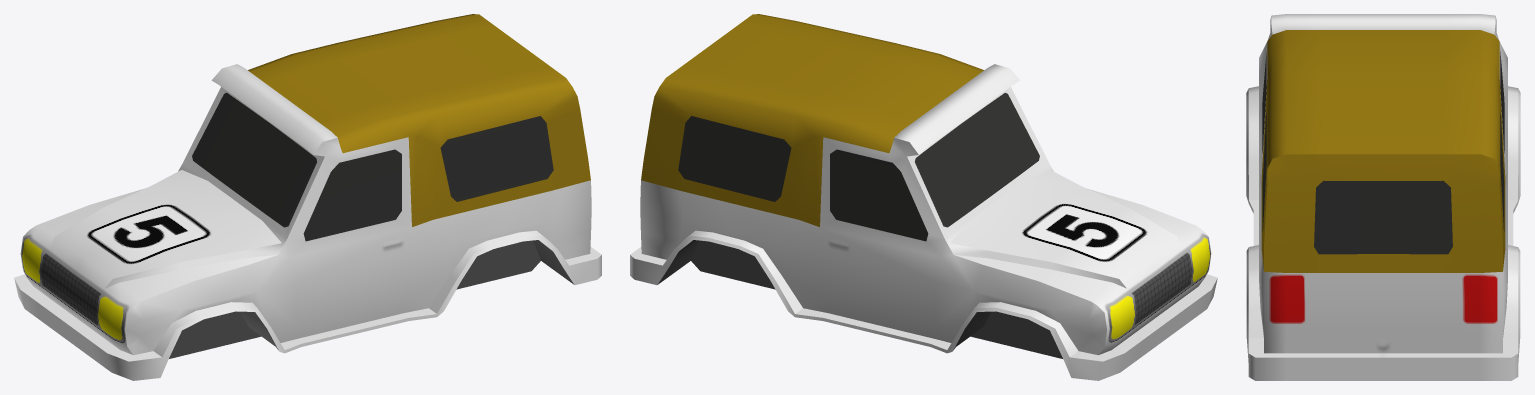
File: cabrio.glb
3 views of the same model, side by side, from view 1: azimuth 30°, elevation 25°; view 2: azimuth 150°, elevation 25°; view 3: azimuth 270°, elevation 25° (orthographic). The views are drawn at different scales.
Visible parts, largest first — view 1: obj0, obj2, obj1, obj3; view 2: obj0, obj2, obj1, obj3; view 3: obj2, obj0, obj1.
Part boxes in pixels (left/top/right/bottom): obj0: left=14, top=64, right=601, bottom=380; obj2: left=248, top=14, right=590, bottom=226; obj1: left=192, top=93, right=553, bottom=241; obj3: left=169, top=240, right=574, bottom=358; obj0: left=630, top=64, right=1217, bottom=380; obj2: left=641, top=14, right=983, bottom=226; obj1: left=678, top=93, right=1039, bottom=241; obj3: left=657, top=240, right=1062, bottom=358; obj2: left=1261, top=30, right=1505, bottom=272; obj0: left=1246, top=14, right=1520, bottom=380; obj1: left=1262, top=52, right=1504, bottom=254.
Size of what is drawn, in the model's own units: 3.83 by 1.56 by 1.7.
4 materials, 4 textured.
